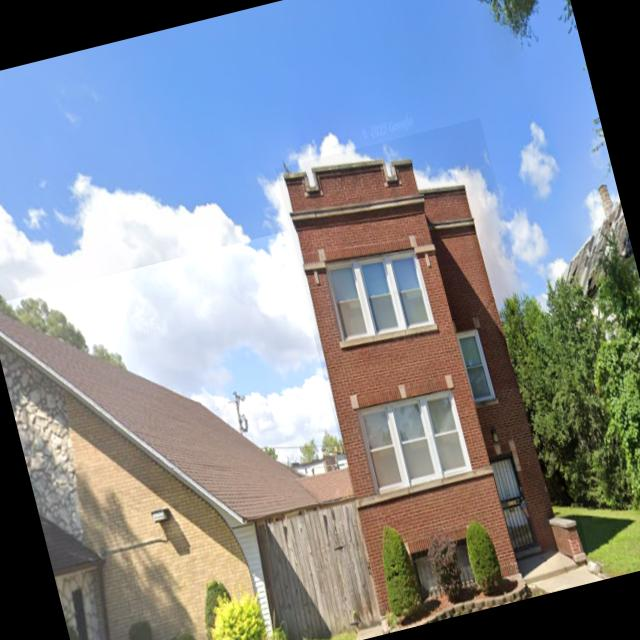House: (275, 118, 595, 632), (0, 230, 387, 640)
